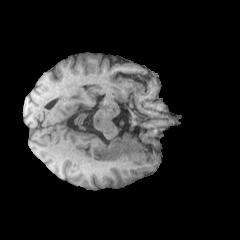glioma: (90, 134, 144, 165)
